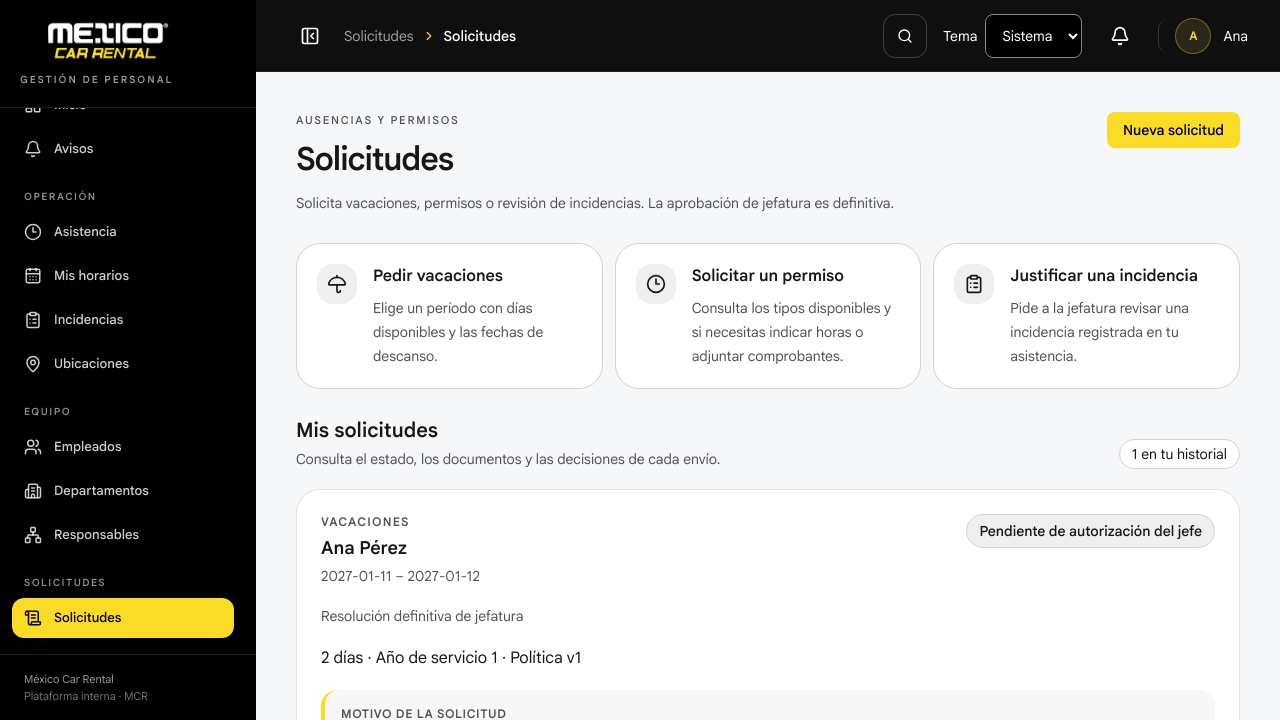
Test case: shows mandatory hourly dates and notice without requesting a receipt
(page scrolled)
Click the button "Nueva solicitud" at [1174, 130], box [1107, 112, 1240, 148]
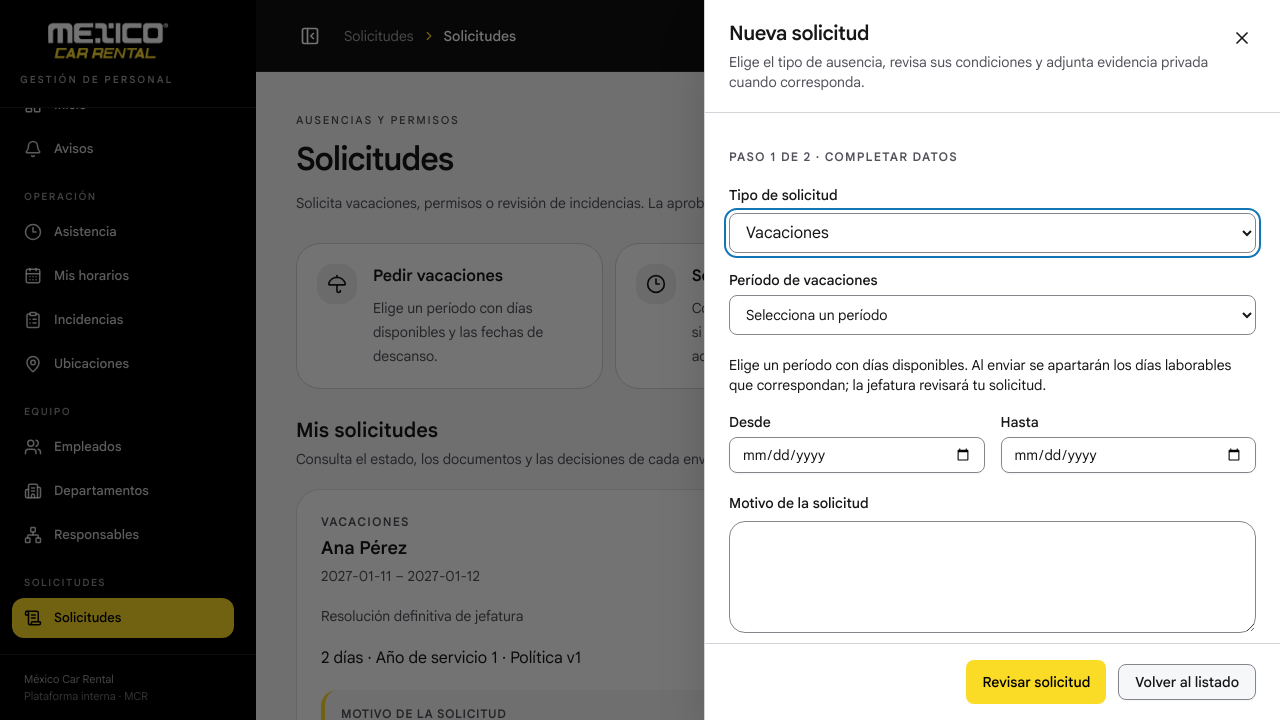
Check: the button "Revisar solicitud" is shown, box [966, 660, 1106, 704]
Select "Permiso" in the dropdown labelled "Tipo de solicitud" at [992, 233], box [729, 213, 1256, 253]
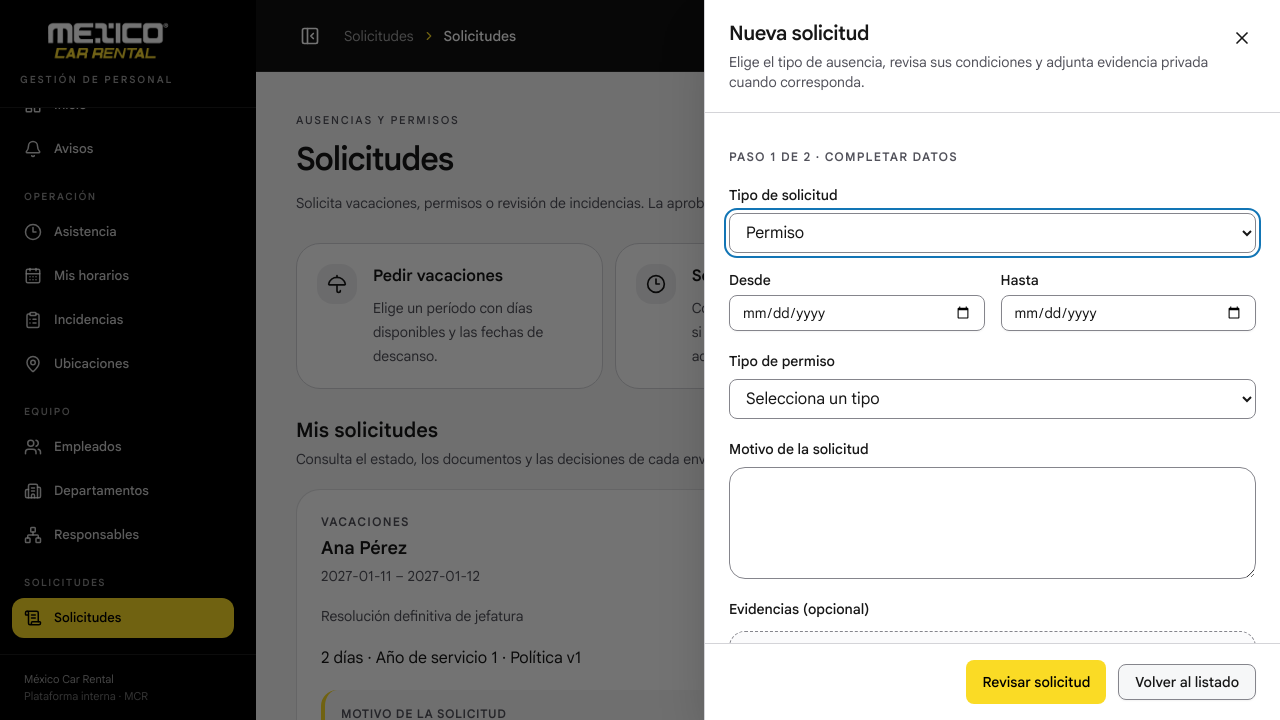
Select "Consulta médica · Con goce" in the dropdown labelled "Tipo de permiso" at [992, 399], box [729, 379, 1256, 419]
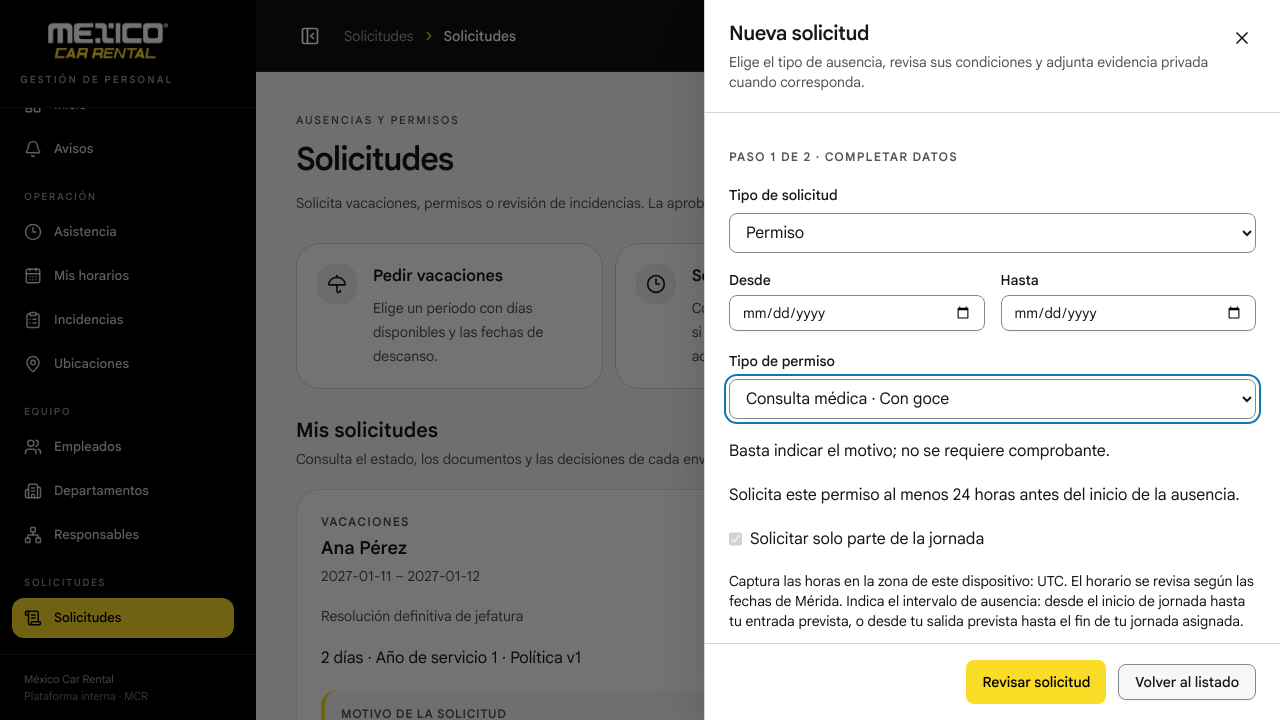
Check: the text "Solicita este permiso al menos 24 horas antes del inicio de la ausencia." is shown, box [729, 483, 1256, 507]
Check: the checkbox labelled "Solicitar solo parte de la jornada" is checked, box [729, 527, 742, 551]
Check: the checkbox labelled "Solicitar solo parte de la jornada" is disabled, box [729, 527, 742, 551]
